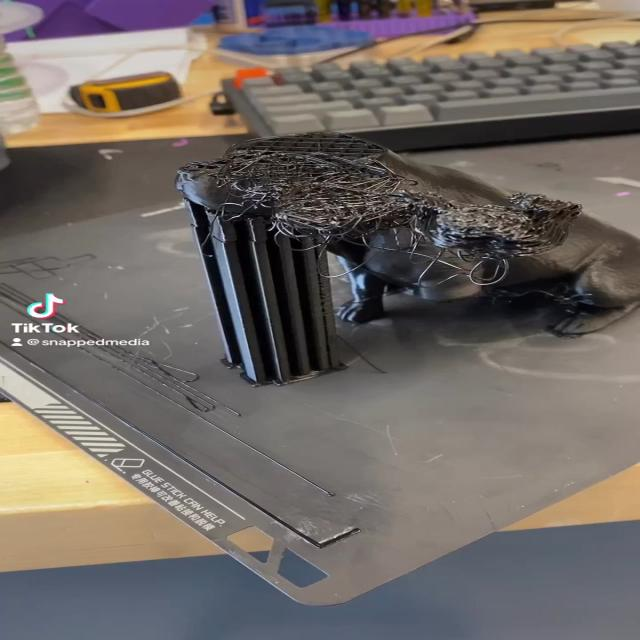spaghetti: (163, 132, 578, 296)
